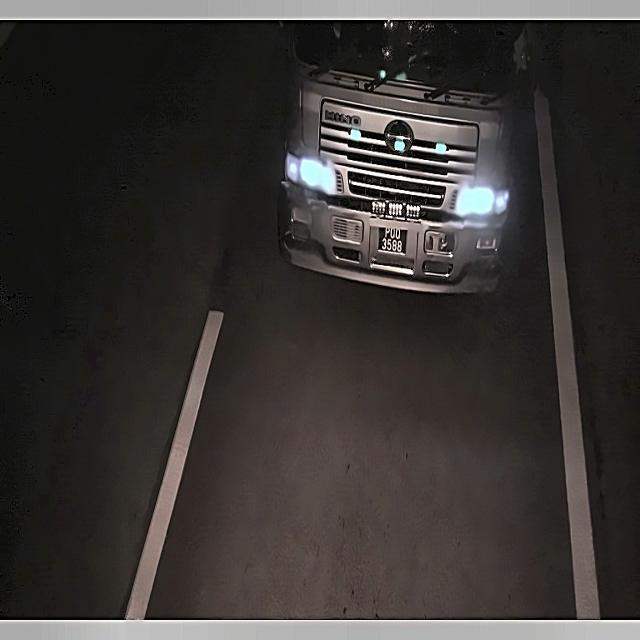car: (374, 218, 412, 259)
